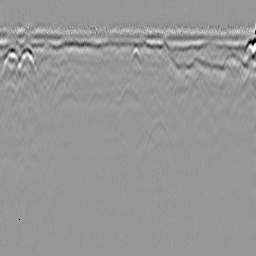cavity: (117, 79, 140, 106)
